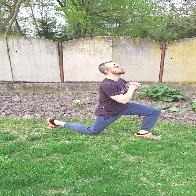lunges: (36, 54, 171, 151)
